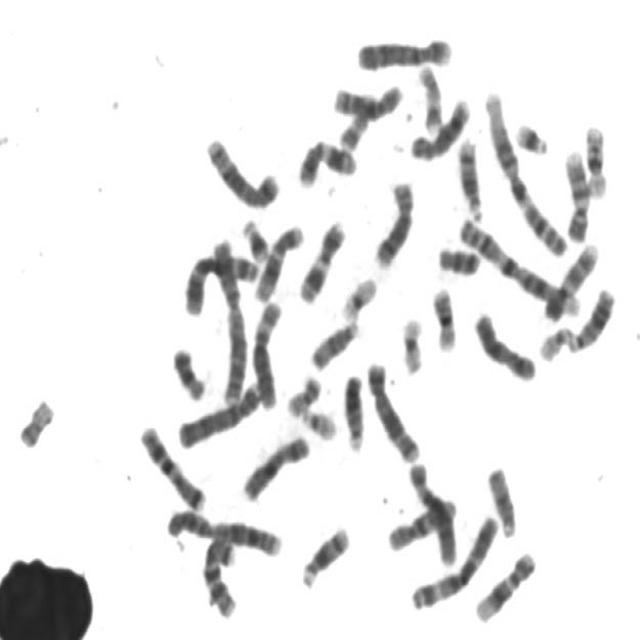A1: (481, 82, 572, 259), (454, 209, 584, 321)
A2: (207, 230, 251, 407), (162, 502, 286, 558)
A3: (406, 506, 503, 612), (180, 244, 263, 318)
B4: (173, 374, 265, 451), (353, 29, 456, 72)
B5: (363, 353, 424, 464), (202, 130, 284, 211)
C10: (384, 488, 461, 553), (328, 77, 408, 122)
C11: (295, 212, 349, 306), (294, 133, 360, 189)
C12: (471, 544, 540, 626), (250, 216, 307, 303)
C6: (404, 453, 461, 568), (248, 292, 287, 412)
C7: (135, 418, 210, 514), (198, 529, 240, 620)
C8: (407, 90, 474, 162), (371, 173, 419, 271)
C9: (540, 235, 602, 323), (560, 141, 593, 243)
D13: (566, 280, 618, 353), (339, 365, 369, 453)
D14: (297, 518, 353, 590), (454, 130, 486, 223)
D15: (306, 313, 363, 372), (484, 459, 520, 539)
E16: (581, 117, 612, 200), (428, 280, 461, 353)
E17: (336, 90, 377, 152), (414, 58, 445, 134)
E18: (168, 340, 210, 402), (434, 237, 484, 278)
F19: (337, 268, 381, 322), (397, 308, 427, 376)
F20: (14, 389, 58, 450), (282, 368, 324, 418)
G21: (238, 211, 274, 264), (511, 114, 552, 157)
G22: (536, 318, 576, 364), (298, 400, 341, 441)
X: (238, 427, 314, 503), (470, 303, 540, 384)
